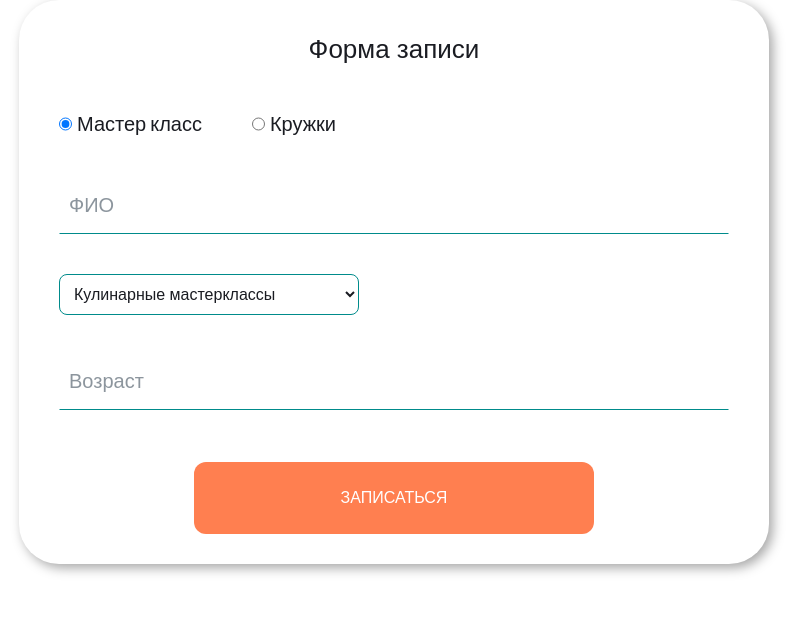
Компонент Form › Должна успешно отправляться форма
Type "Иванов Иван Иванович" into the field labelled "ФИО" at (394, 212), box x1=59 y1=190 x2=729 y2=234
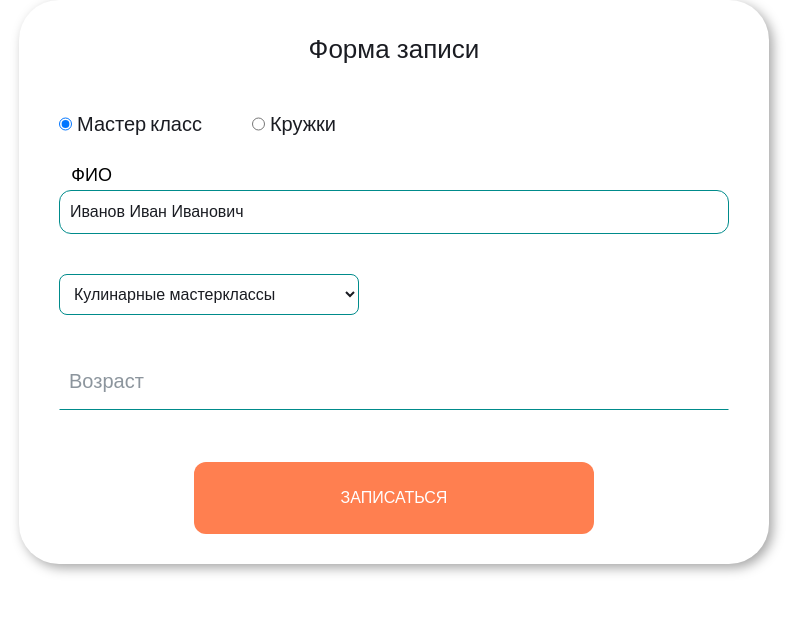
Type "20" into the number field labelled "Возраст" at (394, 388), box x1=59 y1=366 x2=729 y2=410
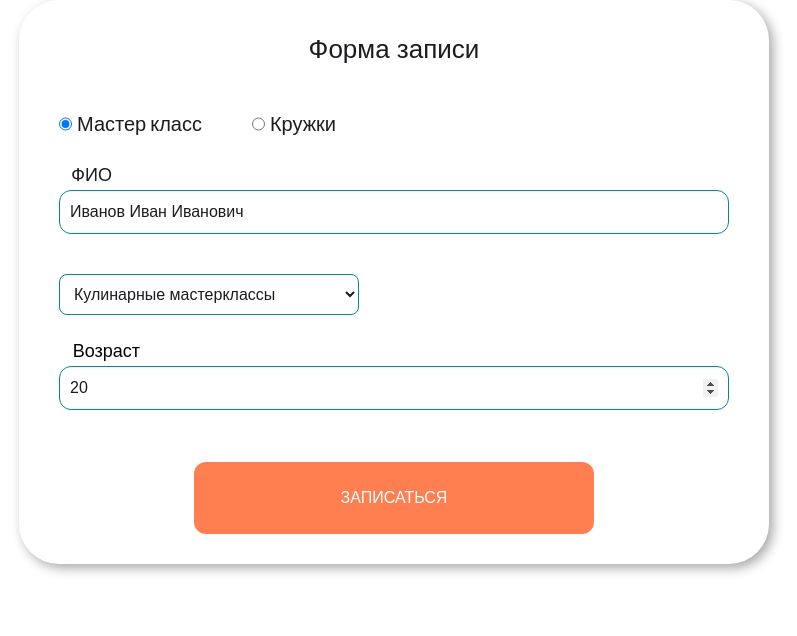
Click the button "записаться" at (394, 498), box x1=194 y1=462 x2=594 y2=534
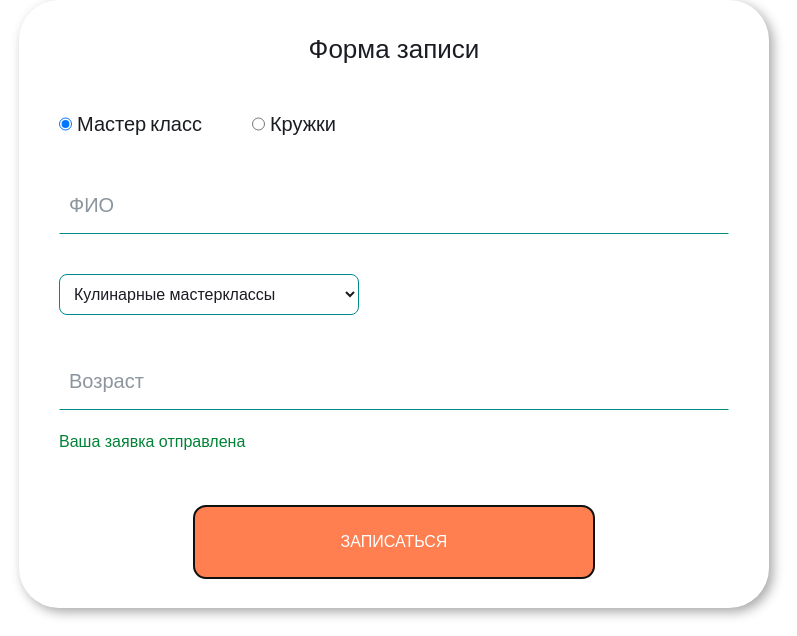
Expected: the text "Ваша заявка отправлена" is shown, x1=59 y1=433 x2=245 y2=450
Expected: the field labelled "ФИО" is empty, x1=59 y1=190 x2=729 y2=234
